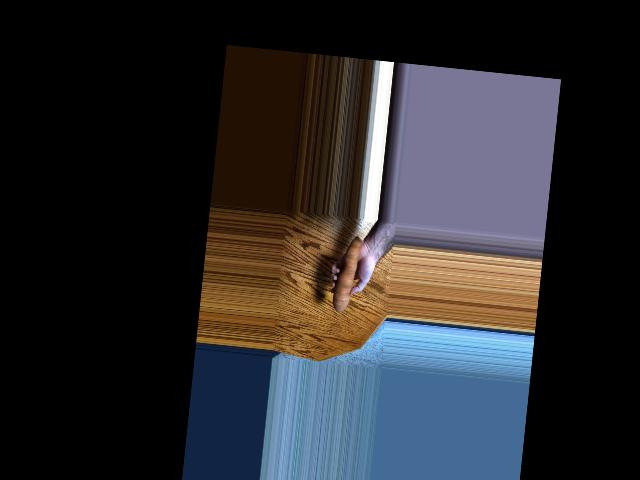sweet_potato: (326, 238, 364, 313)
